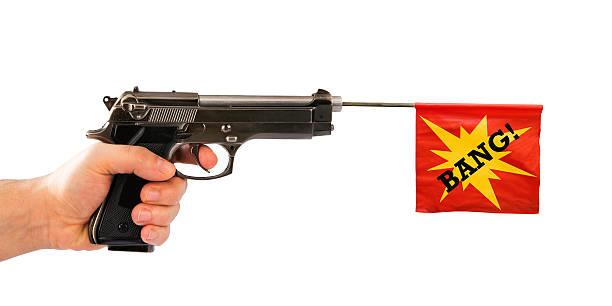weapon: (86, 85, 343, 257)
